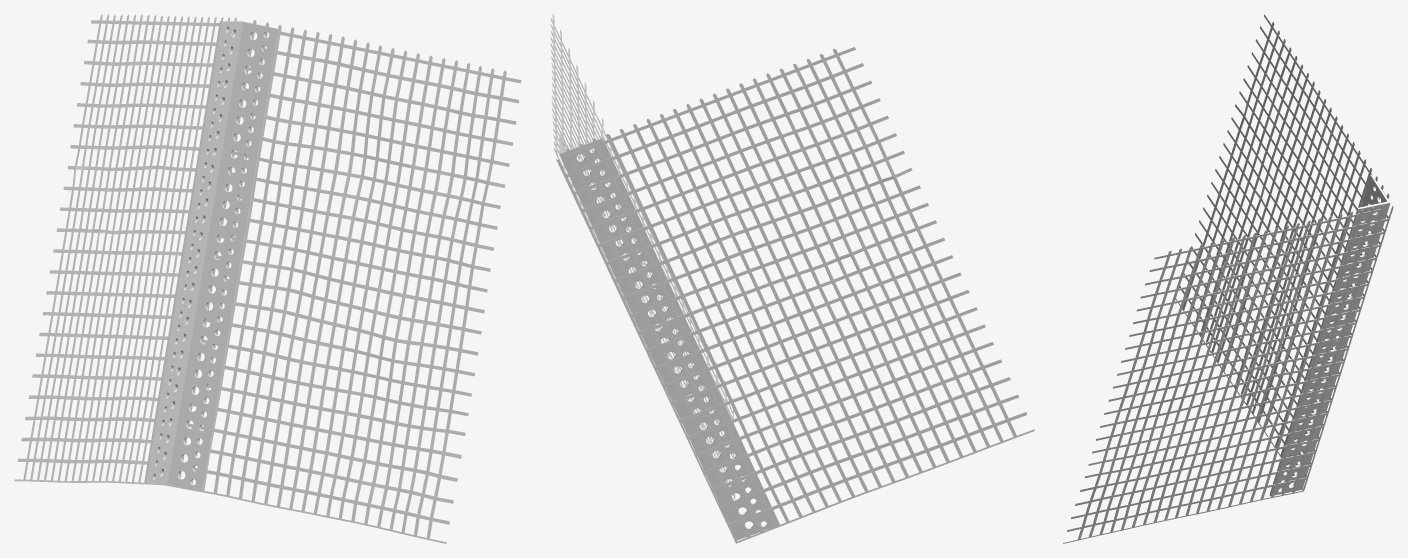
The model's file is beyazfile.glb.
3 views of the same model, side by side, from view 1: azimuth 30°, elevation 25°; view 2: azimuth 150°, elevation 25°; view 3: azimuth 270°, elevation 25° (orthographic). The views are drawn at different scales.
Parts seen in each view (by area): view 1: filelikose.004; view 2: filelikose.004; view 3: filelikose.004.
Part boxes in pixels (bbox=[...]): filelikose.004: bbox=[14, 14, 521, 543]; filelikose.004: bbox=[550, 14, 1034, 543]; filelikose.004: bbox=[1063, 14, 1393, 543].
Size of the model in its own units: 1.53 by 1.49 by 1.02.
Materials: 1 (1 with a texture image).
